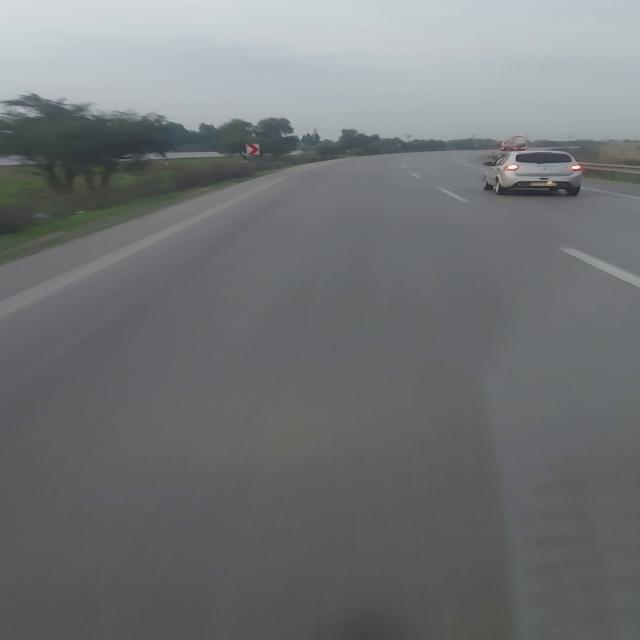Car: (481, 151, 587, 196)
